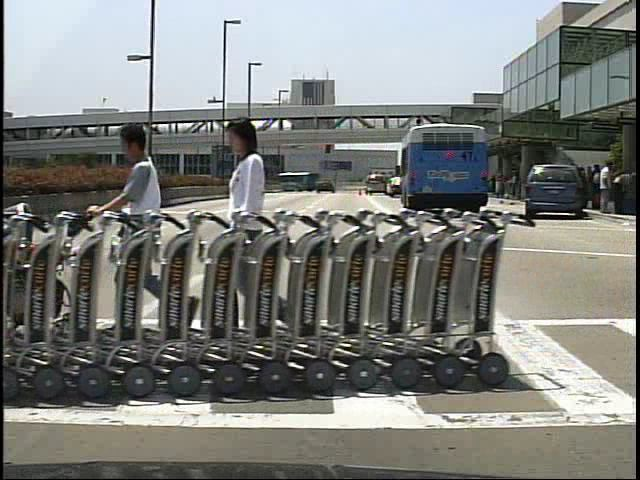person: (216, 113, 297, 350), (93, 120, 179, 339), (597, 160, 618, 215), (589, 164, 605, 214)
